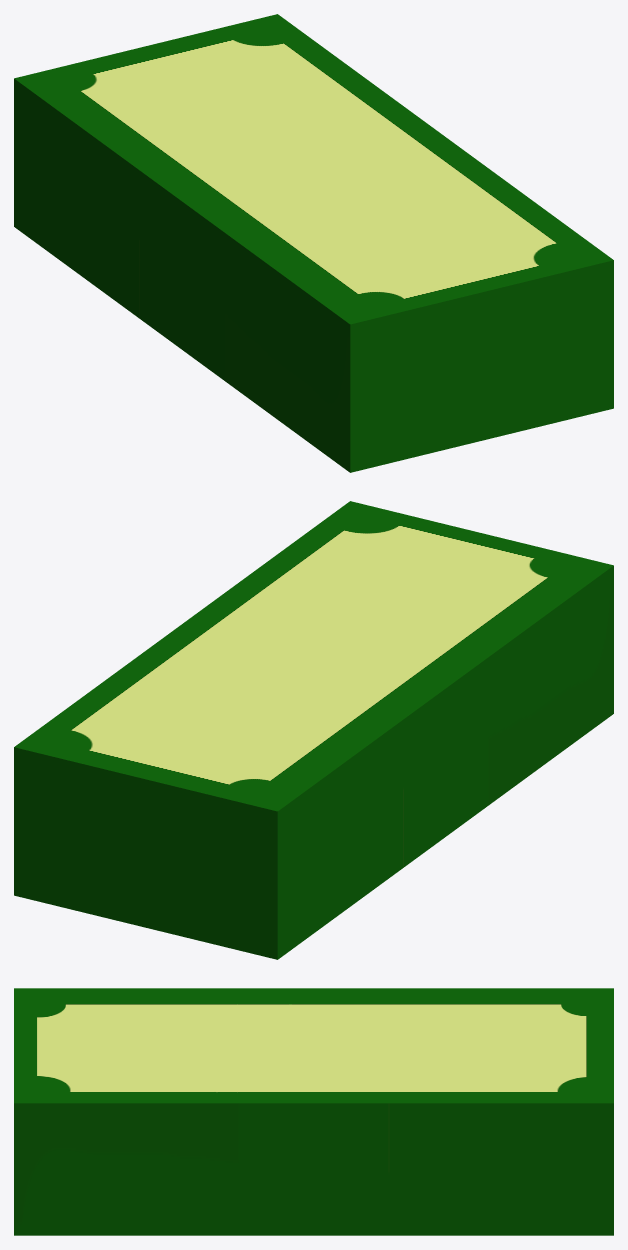
Rendered from Dollar.fbx.
The picture shows the model from 3 angles, top to bottom: view 1: azimuth 30°, elevation 25°; view 2: azimuth 150°, elevation 25°; view 3: azimuth 270°, elevation 25°; orthographic projection. The views are drawn at different scales.
Parts seen in each view (by area): view 1: Cube.007; view 2: Cube.007; view 3: Cube.007.
Part boxes in pixels (box(x1,y1,x2,y2)): Cube.007: box(14, 14, 613, 472); Cube.007: box(14, 501, 613, 959); Cube.007: box(14, 988, 613, 1235).
Size of the model in its own units: 170 by 91.22 by 375.
1 material, 1 textured.
